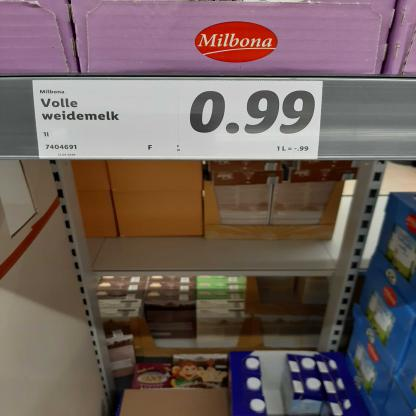prtg: (33, 81, 324, 160)
